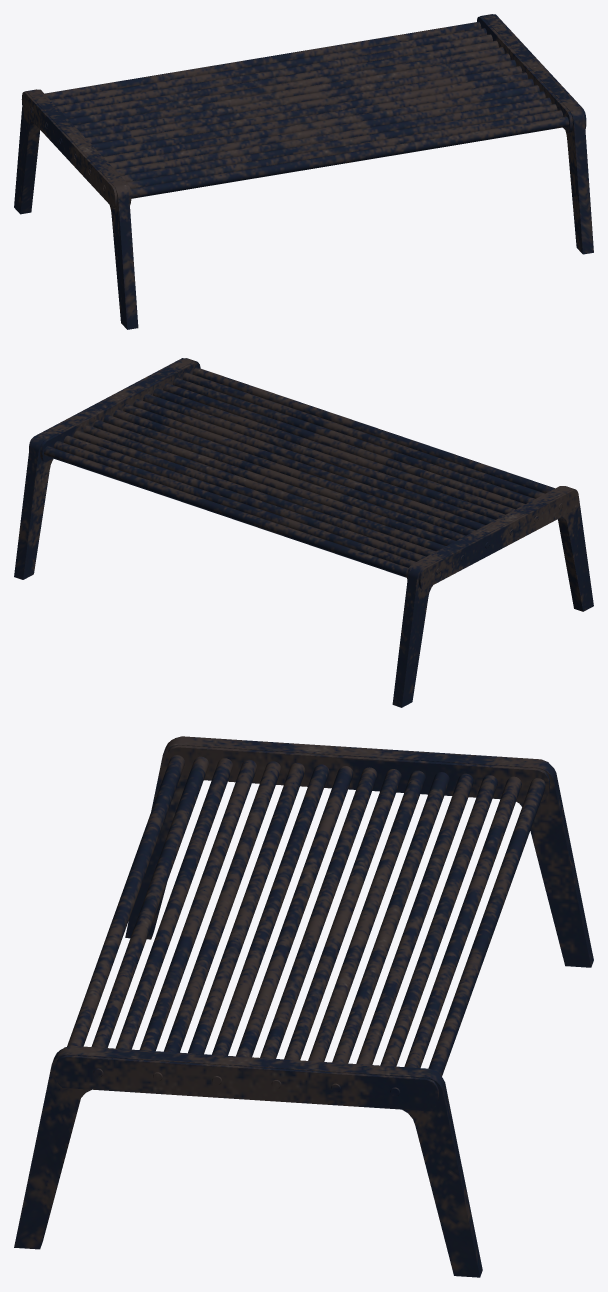
Rendered from bench.glb.
3 views of the same model, one above another, from view 1: azimuth 30°, elevation 25°; view 2: azimuth 150°, elevation 25°; view 3: azimuth 270°, elevation 25° (orthographic). The views are drawn at different scales.
Visible parts, largest first — view 1: bench; view 2: bench; view 3: bench.
Part boxes in pixels (x1=…): bench: x1=14, y1=14, x2=593, y2=329; bench: x1=14, y1=358, x2=593, y2=707; bench: x1=14, y1=736, x2=593, y2=1277.
Size of the model in its own units: 2.03 by 0.5347 by 1.43.
Materials: 1 (1 with a texture image).
